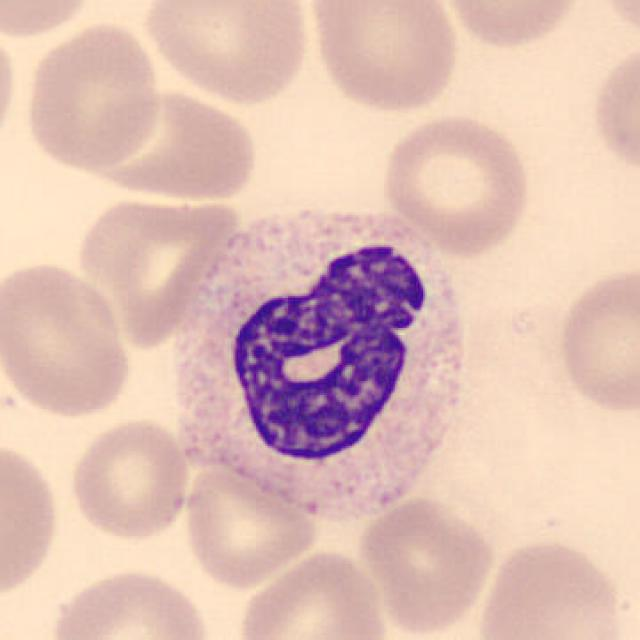Neutrophil: (162, 205, 473, 527)
RBC: (71, 191, 244, 349), (377, 110, 535, 258), (18, 18, 164, 174), (0, 256, 137, 421), (75, 84, 261, 204), (354, 492, 496, 636), (138, 0, 314, 108), (304, 0, 462, 116), (180, 462, 322, 591), (471, 534, 629, 640), (66, 414, 194, 543), (233, 546, 391, 640), (553, 263, 638, 416), (46, 564, 215, 640), (0, 434, 64, 606), (587, 35, 638, 185), (437, 0, 587, 51), (0, 0, 99, 42), (0, 16, 21, 159), (592, 0, 640, 46)
